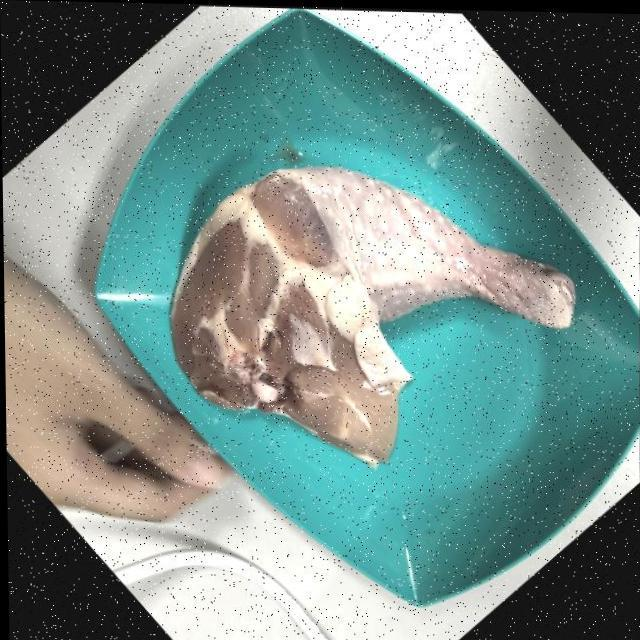quater: (175, 155, 573, 446)
